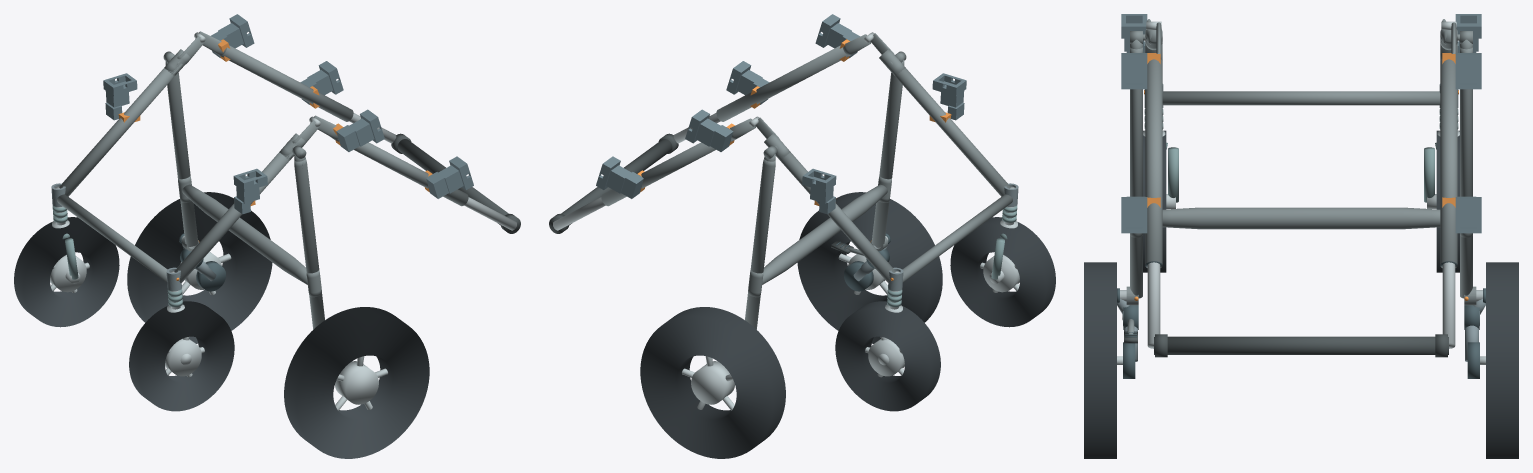
File: w650_state2_wheel_L.glb
3 renders of one model, left to right at view 1: azimuth 30°, elevation 25°; view 2: azimuth 150°, elevation 25°; view 3: azimuth 270°, elevation 25°, orthographic. The views are drawn at different scales.
Parts seen in each view (by area): view 1: RL_tire.010, RR_tire.010, FL_tire.010, FR_tire.010, V46_rearbar.010, main_lower_1.010, main_upper_1.010, V46_rear_leg_1.010, V46_rear_leg_-1.010, main_lower_-1.010, front_fixed_round_tube.010, main_upper_-1.010 (+12 smaller); view 2: RR_tire.010, RL_tire.010, FR_tire.010, FL_tire.010, V46_rearbar.010, main_lower_-1.010, main_upper_-1.010, V46_rear_leg_-1.010, V46_rear_leg_1.010, main_lower_1.010, front_fixed_round_tube.010, main_upper_1.010 (+12 smaller); view 3: RL_tire.010, RR_tire.010, V46_rearbar.010, round_handle.009, front_fixed_round_tube.010, main_upper_1.010, main_upper_-1.010, V46_rear_leg_1.010, V46_rear_leg_-1.010, handle_slider_1.009, handle_slider_-1.009, Universal_Cabin_Receiver_H_1 (+11 smaller).
Boxes of the visible parts, x1,y1,x2,y2 form: RL_tire.010: [284, 307, 429, 458]; RR_tire.010: [127, 192, 272, 343]; FL_tire.010: [129, 301, 234, 411]; FR_tire.010: [14, 217, 119, 327]; V46_rearbar.010: [182, 184, 307, 284]; main_lower_1.010: [59, 63, 182, 196]; main_upper_1.010: [220, 45, 353, 121]; V46_rear_leg_1.010: [167, 72, 198, 246]; V46_rear_leg_-1.010: [294, 158, 324, 329]; main_lower_-1.010: [174, 152, 292, 283]; front_fixed_round_tube.010: [57, 194, 167, 282]; main_upper_-1.010: [335, 139, 468, 206]; RR_tire.010: [640, 307, 785, 458]; RL_tire.010: [797, 192, 942, 343]; FR_tire.010: [835, 301, 940, 411]; FL_tire.010: [950, 217, 1055, 327]; V46_rearbar.010: [762, 184, 887, 284]; main_lower_-1.010: [887, 63, 1010, 196]; main_upper_-1.010: [716, 45, 849, 121]; V46_rear_leg_-1.010: [871, 72, 902, 246]; V46_rear_leg_1.010: [745, 158, 775, 329]; main_lower_1.010: [777, 152, 895, 283]; front_fixed_round_tube.010: [902, 194, 1012, 282]; main_upper_1.010: [601, 139, 734, 206]; RL_tire.010: [1084, 262, 1116, 458]; RR_tire.010: [1486, 262, 1518, 458]; V46_rearbar.010: [1162, 207, 1440, 229]; round_handle.009: [1154, 336, 1448, 354]; front_fixed_round_tube.010: [1162, 91, 1440, 105]; main_upper_1.010: [1440, 59, 1457, 267]; main_upper_-1.010: [1145, 59, 1162, 267]; V46_rear_leg_1.010: [1460, 47, 1472, 298]; V46_rear_leg_-1.010: [1130, 47, 1142, 298]; handle_slider_1.009: [1442, 262, 1455, 348]; handle_slider_-1.009: [1147, 262, 1160, 348]; Universal_Cabin_Receiver_H_1: [1455, 196, 1481, 233].
Bounding box in the file's own units: 1.05 × 0.84 × 0.796.
